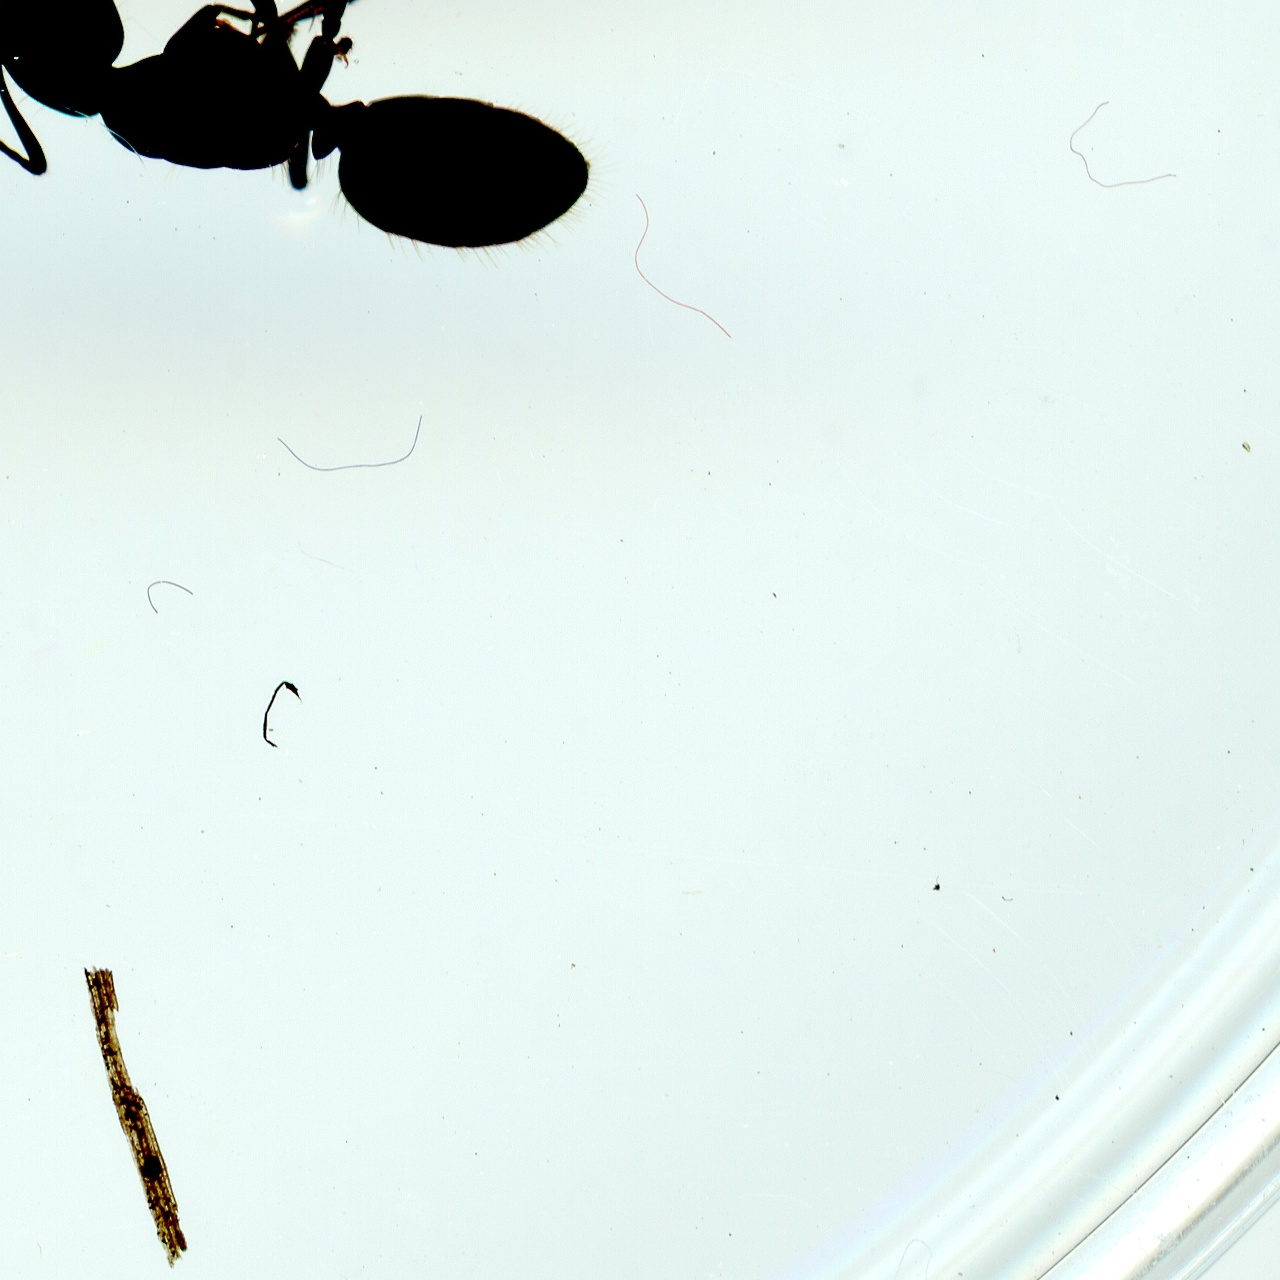arthropod: (0, 0, 622, 272)
